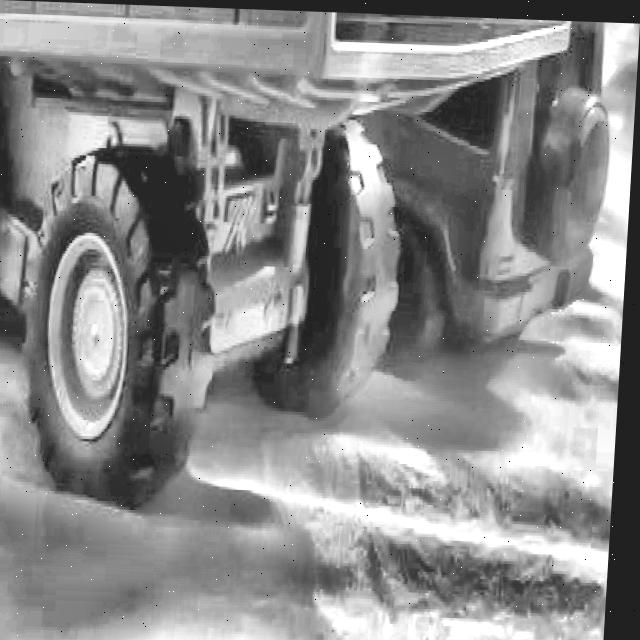dump_truck: (0, 0, 567, 493)
light_vehicle: (428, 93, 633, 363)
